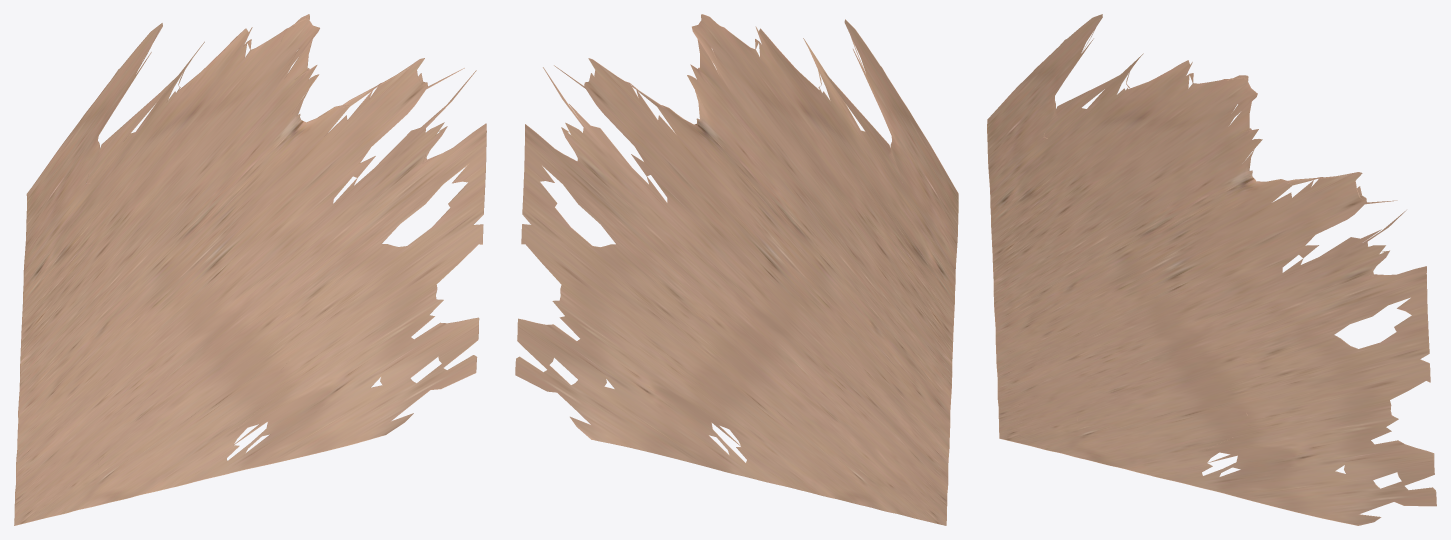
3 views of the same model, side by side, from view 1: azimuth 30°, elevation 25°; view 2: azimuth 150°, elevation 25°; view 3: azimuth 330°, elevation 25° (orthographic). The views are drawn at different scales.
Bounding box in the file's own units: 27.37 × 27.83 × 2.26.
1 material, 1 textured.
